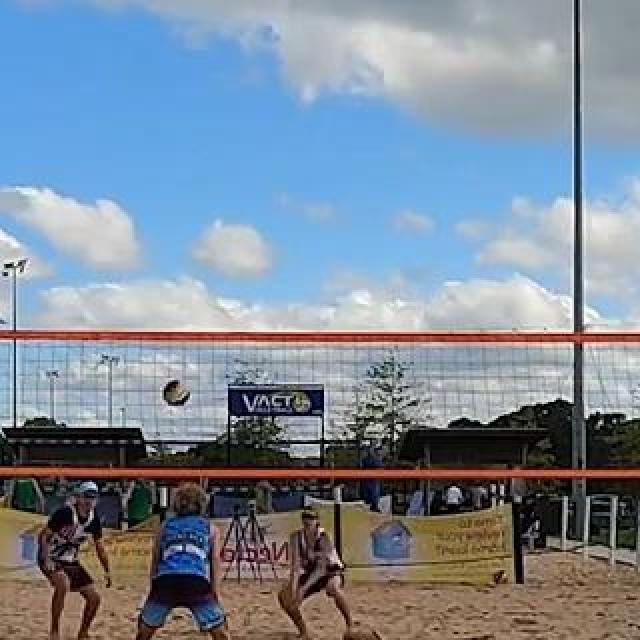volleyball: (162, 379, 190, 407), (493, 568, 509, 584)
